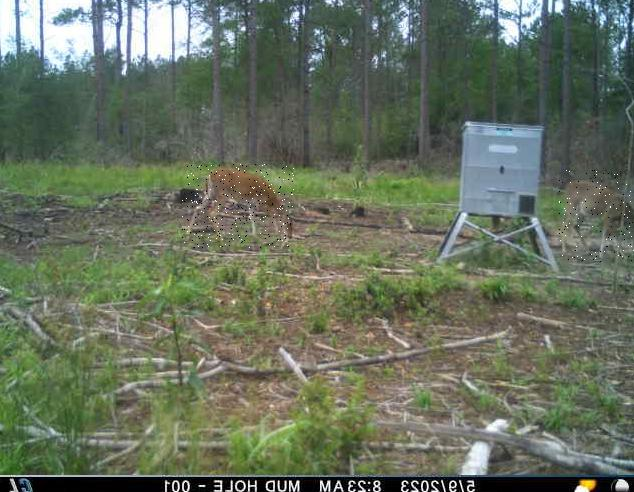Deer: (182, 165, 294, 249), (559, 170, 634, 263)
